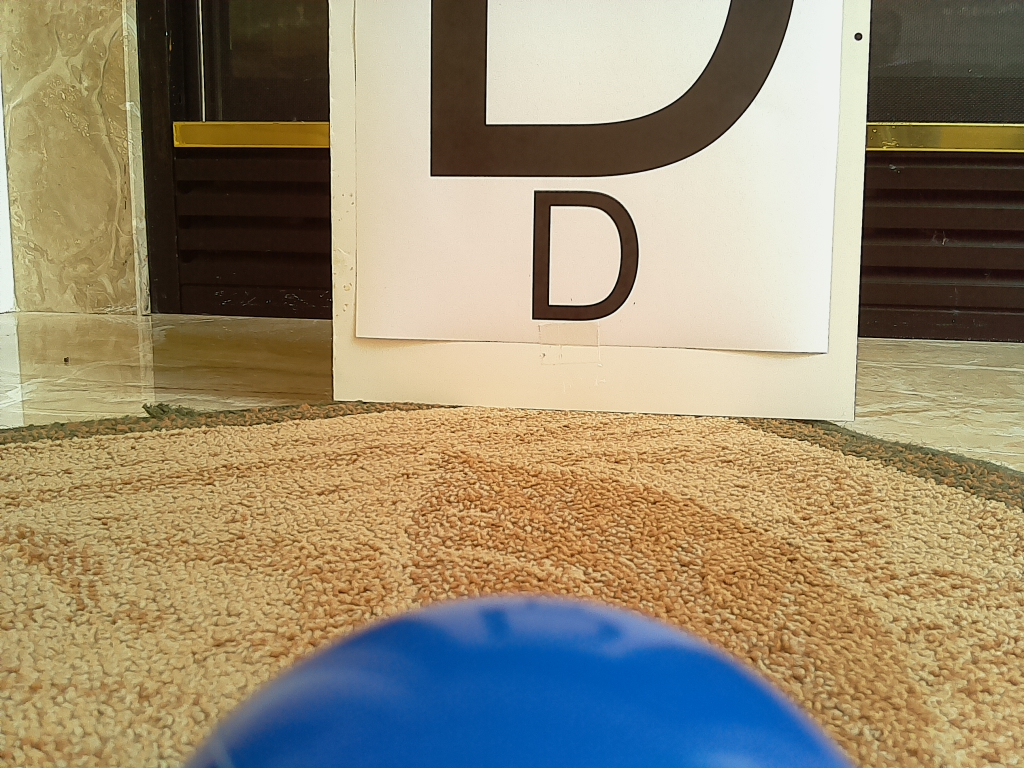letter: (534, 191, 639, 320)
